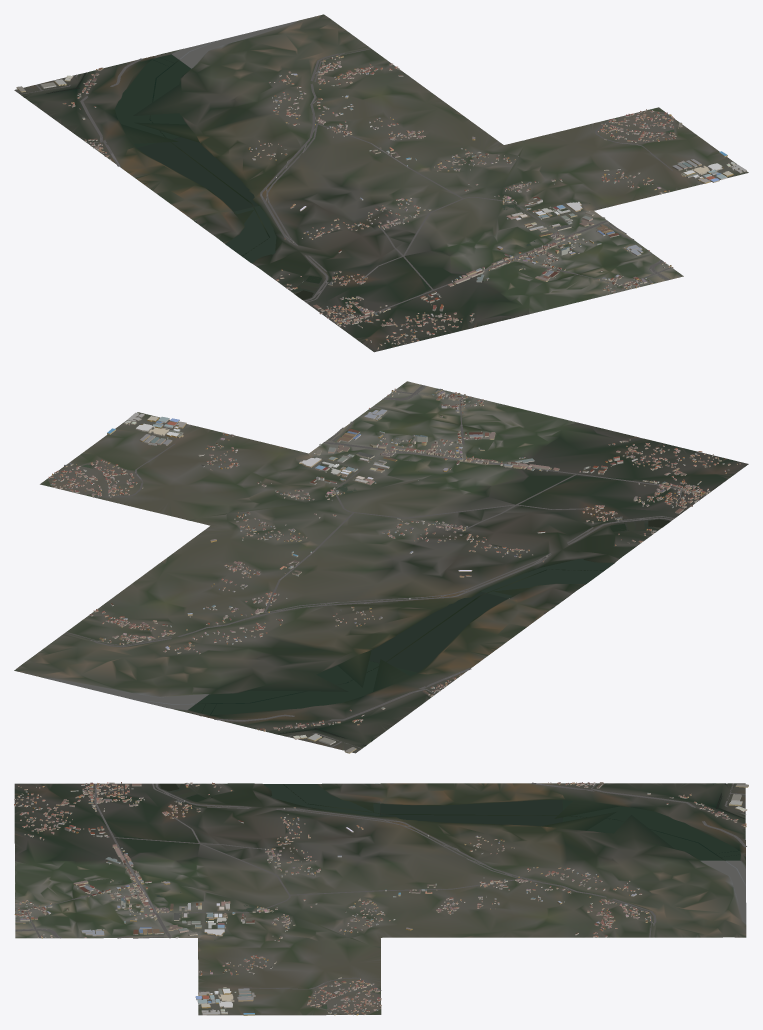
The picture shows the model from 3 angles, top to bottom: view 1: azimuth 30°, elevation 25°; view 2: azimuth 150°, elevation 25°; view 3: azimuth 270°, elevation 25°; orthographic projection. The views are drawn at different scales.
Visible parts, largest first — view 1: ground, buildings, water, roads; view 2: ground, buildings, water, roads; view 3: ground, buildings, water, roads.
Part boxes in pixels (left/top/right/bottom): ground: left=14, top=14, right=748, bottom=352; buildings: left=16, top=55, right=746, bottom=349; water: left=24, top=21, right=674, bottom=299; roads: left=20, top=47, right=672, bottom=323; ground: left=14, top=381, right=748, bottom=753; buildings: left=48, top=388, right=740, bottom=753; water: left=43, top=452, right=669, bottom=745; roads: left=63, top=385, right=705, bottom=748; ground: left=14, top=783, right=746, bottom=1015; buildings: left=14, top=782, right=748, bottom=1015; water: left=118, top=783, right=745, bottom=1009; roads: left=15, top=782, right=746, bottom=990.
Size of the model in its own units: 4227 by 49.9 by 5638.
